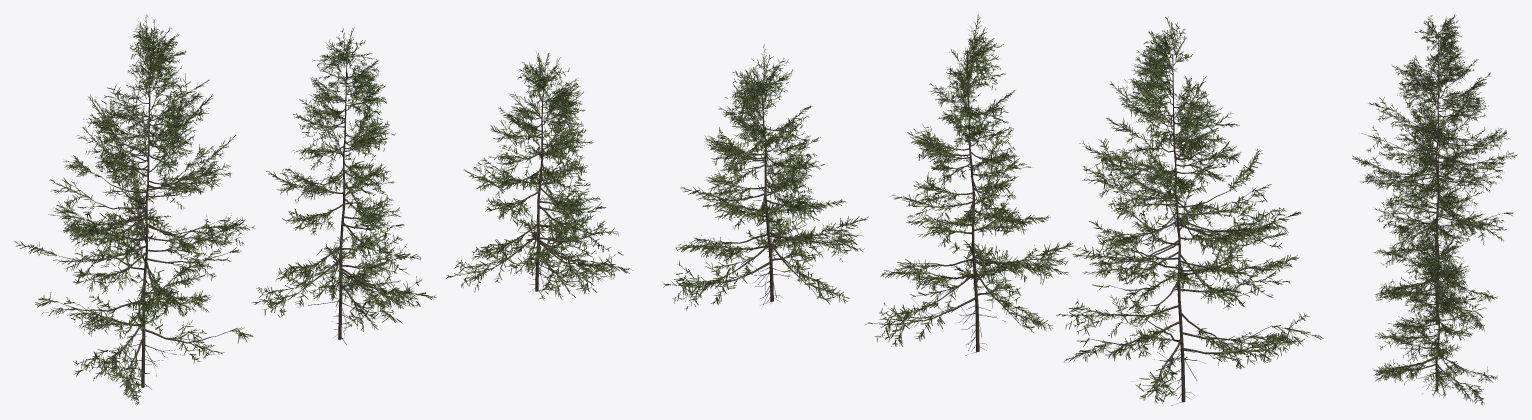
Rendered from sapling_close.glb.
The picture shows the model from 3 angles, left to right: view 1: azimuth 30°, elevation 25°; view 2: azimuth 150°, elevation 25°; view 3: azimuth 270°, elevation 25°; orthographic projection. The views are drawn at different scales.
Parts seen in each view (by area): view 1: fir_sapling_medium_a_LOD0, fir_sapling_medium_b_LOD0, fir_sapling_medium_c_LOD0; view 2: fir_sapling_medium_a_LOD0, fir_sapling_medium_b_LOD0, fir_sapling_medium_c_LOD0; view 3: fir_sapling_medium_a_LOD0, fir_sapling_medium_c_LOD0, fir_sapling_medium_b_LOD0.
Boxes of the visible parts, x1=… form: fir_sapling_medium_a_LOD0: x1=14, y1=14, x2=255, y2=405; fir_sapling_medium_b_LOD0: x1=251, y1=27, x2=436, y2=344; fir_sapling_medium_c_LOD0: x1=446, y1=51, x2=633, y2=300; fir_sapling_medium_a_LOD0: x1=1056, y1=16, x2=1323, y2=405; fir_sapling_medium_b_LOD0: x1=865, y1=14, x2=1073, y2=355; fir_sapling_medium_c_LOD0: x1=663, y1=44, x2=868, y2=310; fir_sapling_medium_a_LOD0: x1=1352, y1=14, x2=1517, y2=262; fir_sapling_medium_c_LOD0: x1=1372, y1=225, x2=1497, y2=405; fir_sapling_medium_b_LOD0: x1=1373, y1=109, x2=1497, y2=330.
Size of the model in its own units: 14.78 by 8.88 by 5.28.
Materials: 3 (3 with a texture image).
